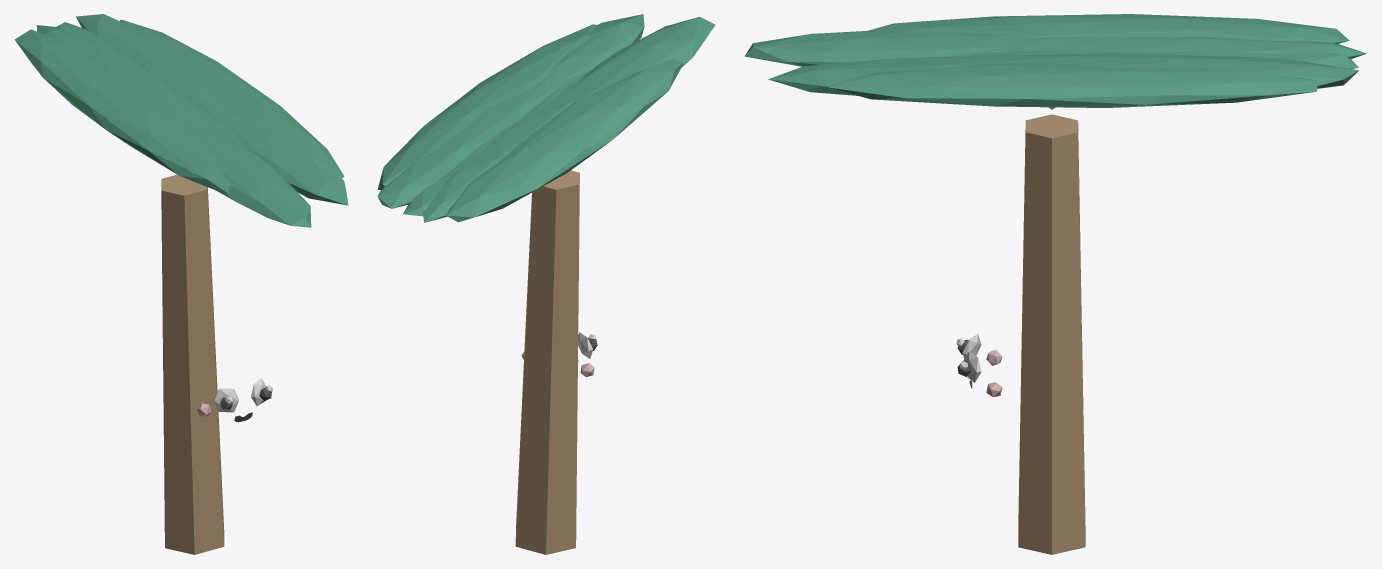
File: caryota-maxima.glb
3 views of the same model, side by side, from view 1: azimuth 30°, elevation 25°; view 2: azimuth 150°, elevation 25°; view 3: azimuth 270°, elevation 25° (orthographic). The views are drawn at different scales.
Parts seen in each view (by area): view 1: trunk, frond3, frond0, frond2, frond6, frond1, frond4, frond5; view 2: trunk, frond3, frond0, frond6, frond2, frond4, frond1, frond5; view 3: trunk, frond0, frond3, frond2, frond6, frond4, frond1, frond5.
Boxes of the visible parts, x1,y1,x2,y2 form: trunk: [161, 174, 224, 554]; frond3: [14, 29, 230, 193]; frond0: [119, 19, 344, 178]; frond2: [180, 119, 311, 227]; frond6: [76, 14, 245, 140]; frond1: [219, 117, 348, 205]; frond4: [36, 25, 221, 132]; frond5: [56, 22, 246, 148]; trunk: [515, 170, 579, 554]; frond3: [446, 58, 683, 222]; frond0: [377, 24, 597, 190]; frond6: [377, 75, 580, 208]; frond2: [572, 16, 715, 102]; frond4: [422, 83, 576, 222]; frond1: [545, 14, 644, 89]; frond5: [403, 69, 591, 216]; trunk: [1018, 114, 1085, 554]; frond0: [828, 63, 1317, 107]; frond3: [867, 14, 1349, 43]; frond2: [744, 30, 1036, 66]; frond6: [963, 53, 1358, 88]; frond4: [987, 37, 1366, 58]; frond1: [768, 56, 1020, 95]; frond5: [941, 49, 1358, 68].
Bounding box in the file's own units: 0.2301 × 0.6297 × 0.7204.
